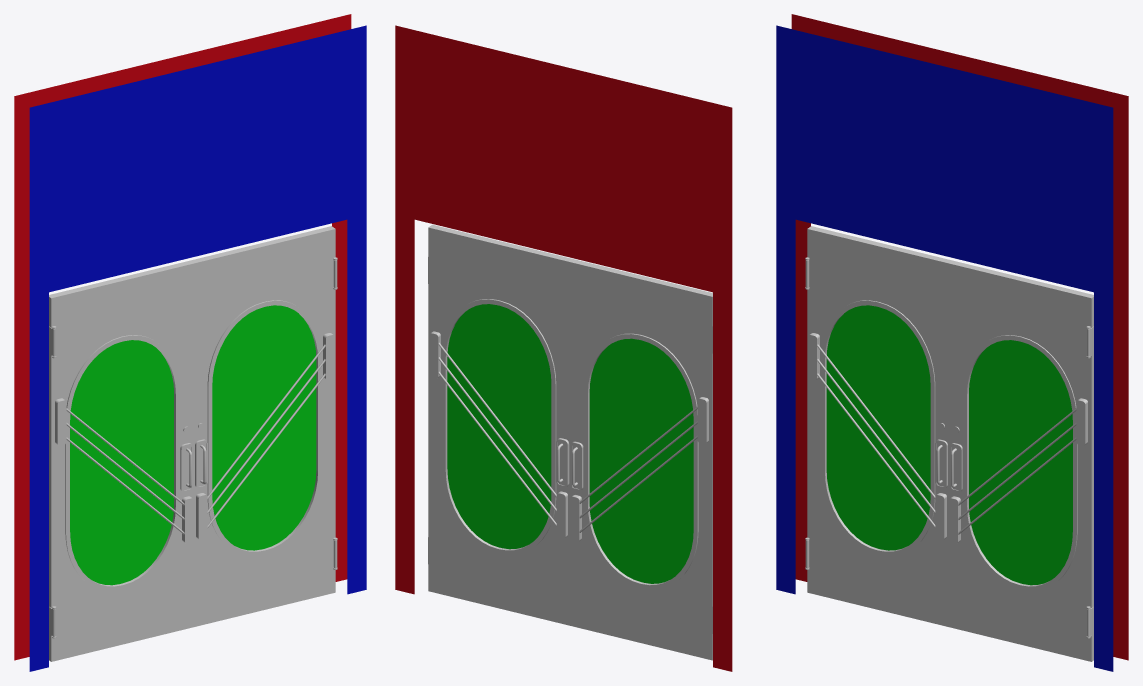
Rendered from Door.fbx.
3 renders of one model, left to right at view 1: azimuth 30°, elevation 25°; view 2: azimuth 150°, elevation 25°; view 3: azimuth 330°, elevation 25°, orthographic.
Parts seen in each view (by area): view 1: Cube.008, Door.002, Door.003; view 2: Cube.008, Door.003, Door.002; view 3: Cube.008, Door.003, Door.002.
Boxes of the visible parts, x1,y1,x2,y2 form: Cube.008: [14, 14, 366, 671]; Door.002: [49, 260, 193, 661]; Door.003: [190, 226, 335, 627]; Cube.008: [395, 25, 732, 671]; Door.003: [428, 224, 573, 625]; Door.002: [570, 259, 712, 660]; Cube.008: [776, 14, 1128, 671]; Door.003: [949, 260, 1093, 661]; Door.002: [807, 226, 952, 627].
Size of the model in its own units: 2.5 by 4 by 0.2025.
